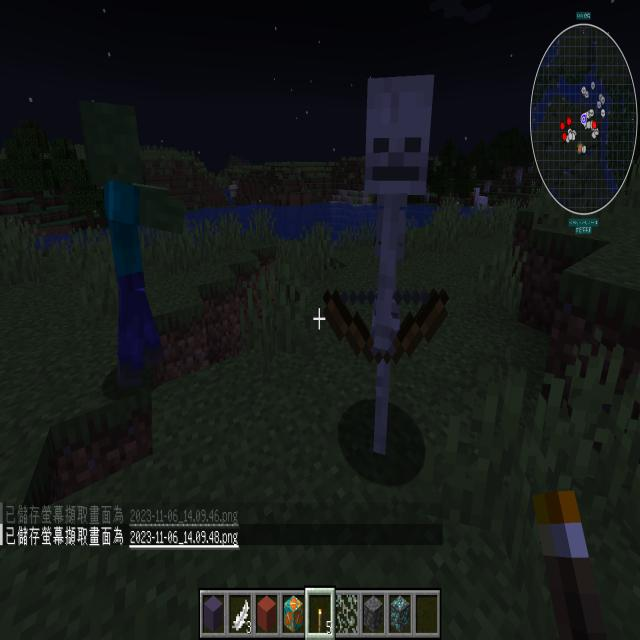Skeleton: (316, 61, 450, 495)
Zombie: (70, 80, 194, 411)
chicken: (469, 176, 492, 225)
